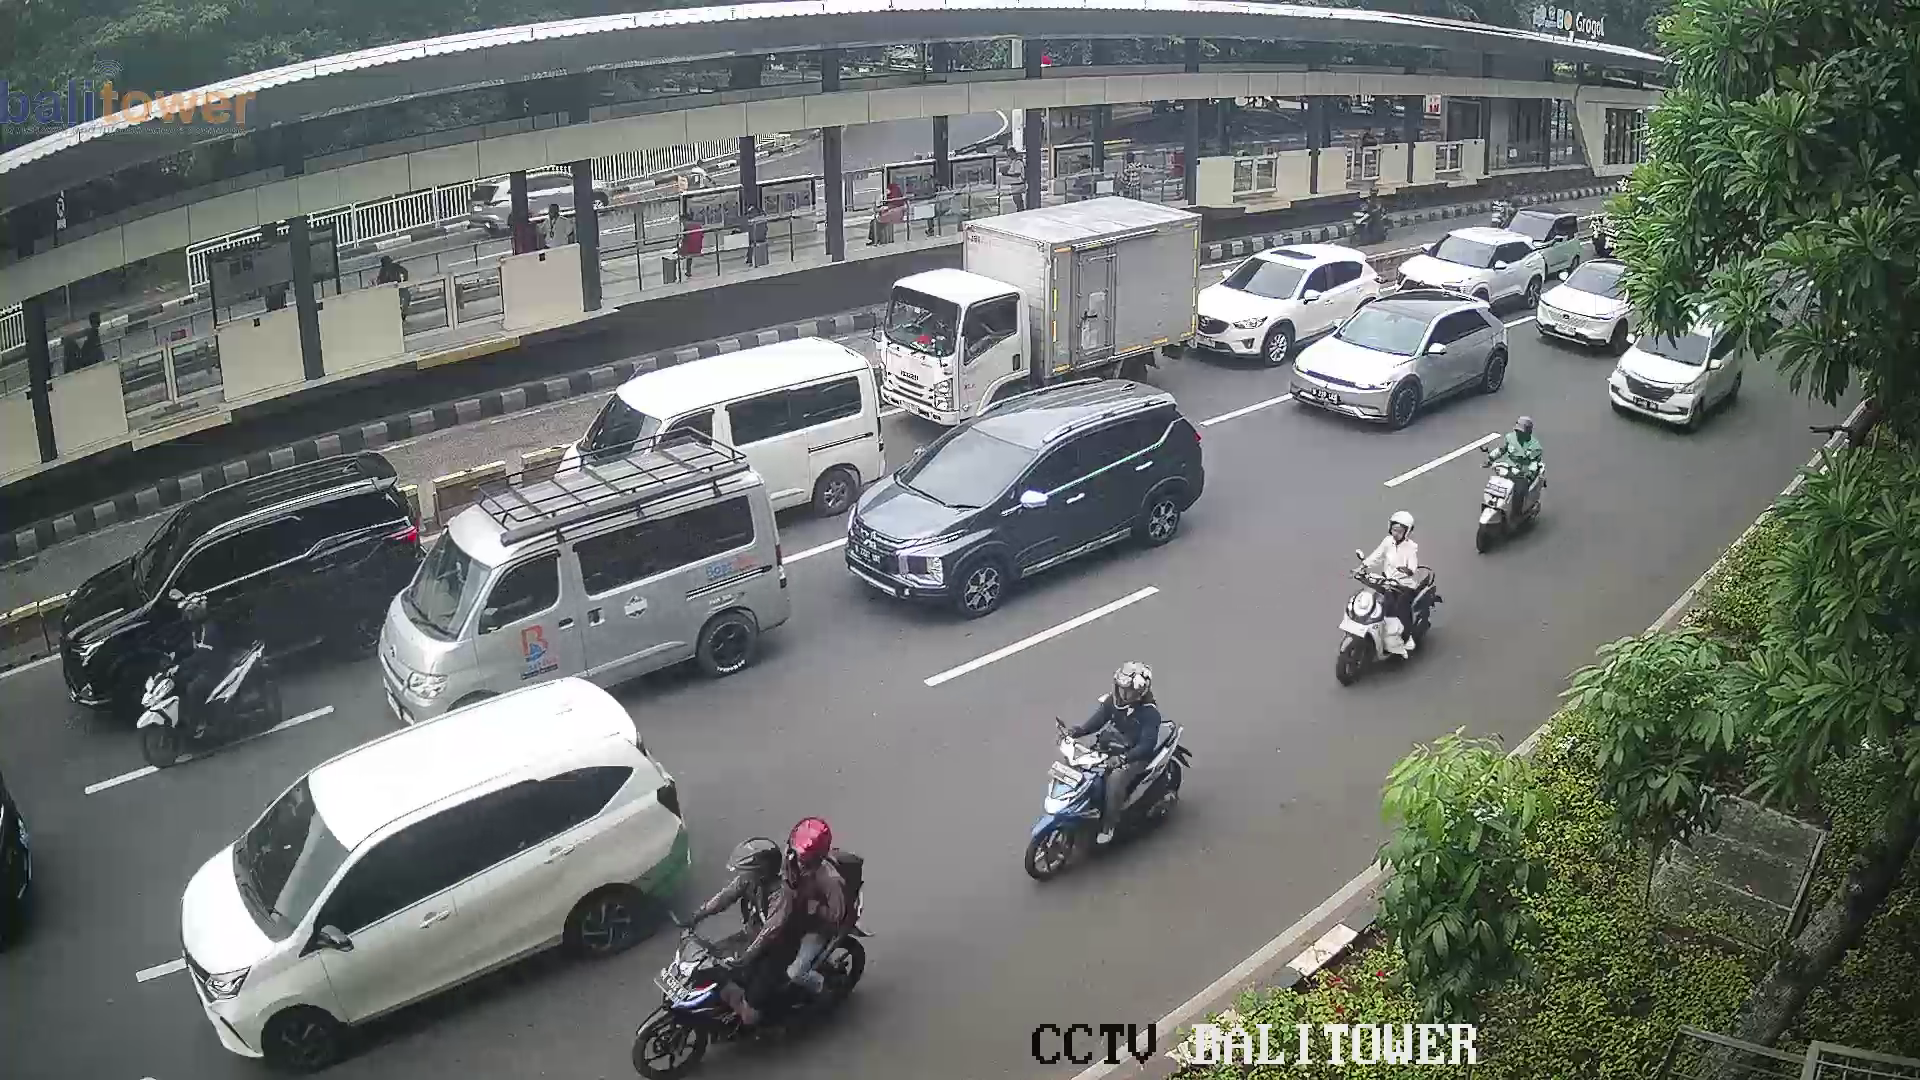full-face helmet: (1102, 659, 1166, 743)
half-face helmet: (772, 806, 839, 898), (717, 826, 784, 910), (1390, 508, 1415, 555), (1514, 412, 1539, 451)
